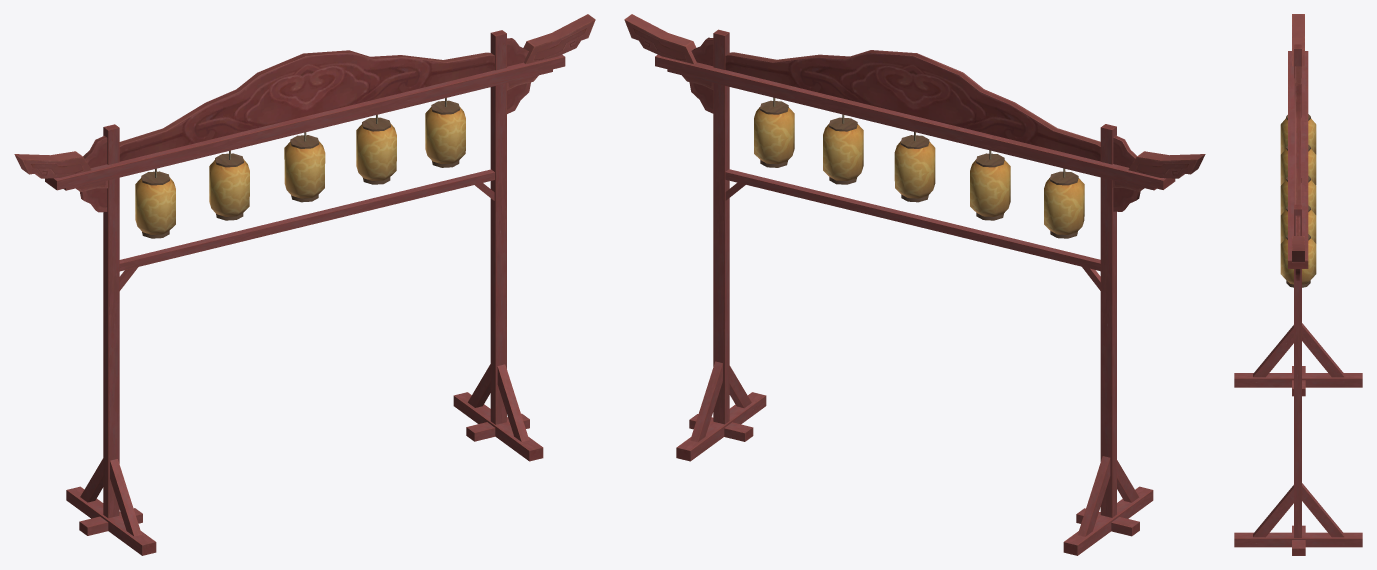
Rendered from Homeworld_Exterior_Ly_Lamp_Build_Doorframe_01_Lod0.fbx.
3 renders of one model, left to right at view 1: azimuth 30°, elevation 25°; view 2: azimuth 150°, elevation 25°; view 3: azimuth 270°, elevation 25°, orthographic. The views are drawn at different scales.
Visible parts, largest first — view 1: Area_Ly_Prop_LYG_Common_Shelf_06_Lod0; view 2: Area_Ly_Prop_LYG_Common_Shelf_06_Lod0; view 3: Area_Ly_Prop_LYG_Common_Shelf_06_Lod0.
Boxes of the visible parts, x1,y1,x2,y2 form: Area_Ly_Prop_LYG_Common_Shelf_06_Lod0: (14, 14, 595, 555); Area_Ly_Prop_LYG_Common_Shelf_06_Lod0: (624, 14, 1205, 555); Area_Ly_Prop_LYG_Common_Shelf_06_Lod0: (1234, 14, 1362, 555).
Bounding box in the file's own units: 10.03 × 7.09 × 2.3.
